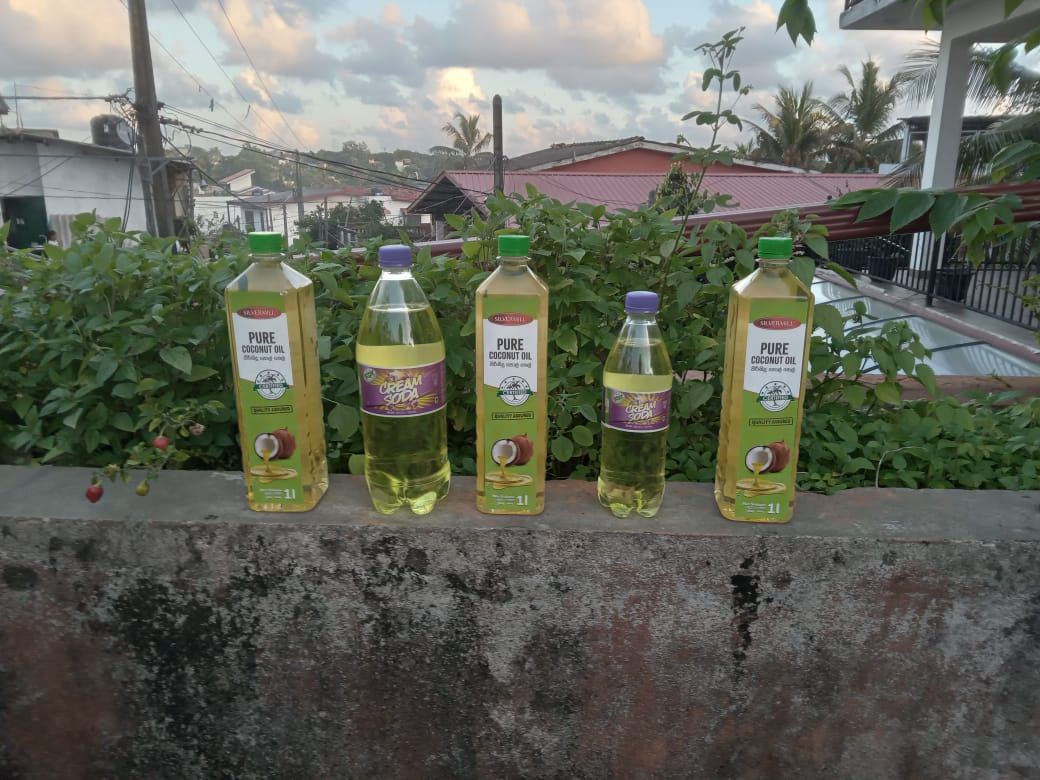M: (353, 244, 452, 518)
S: (597, 292, 677, 516)
